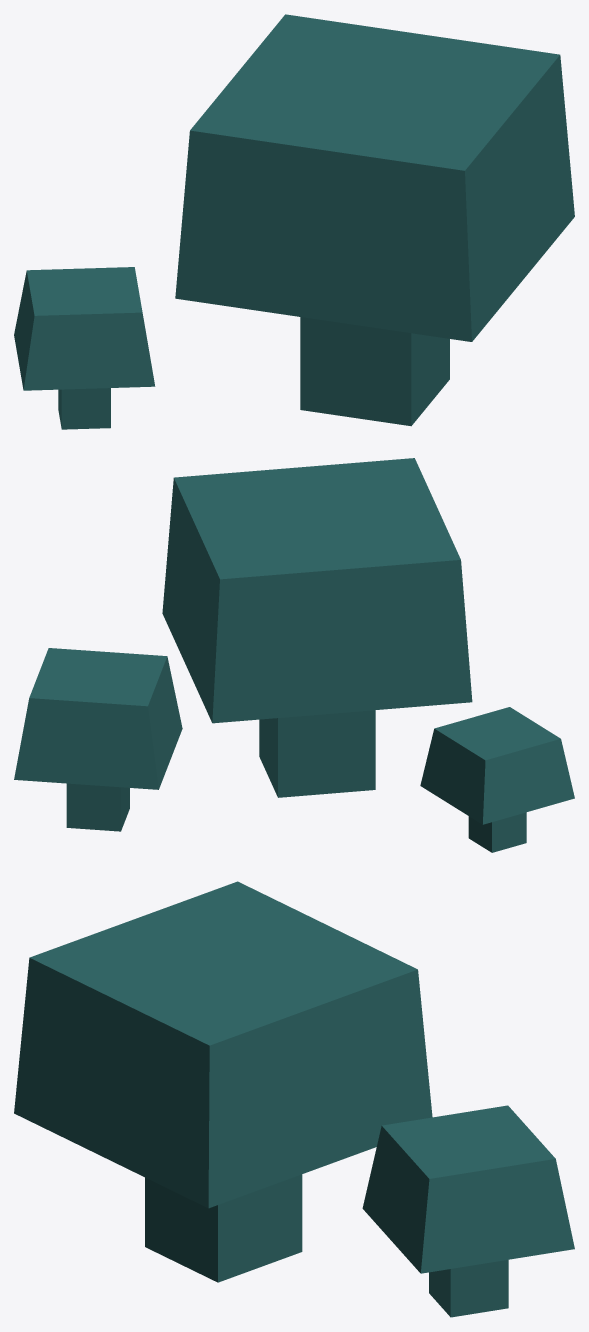
File: SM_Fungus.fbx
3 views of the same model, one above another, from view 1: azimuth 30°, elevation 25°; view 2: azimuth 150°, elevation 25°; view 3: azimuth 270°, elevation 25° (orthographic). The views are drawn at different scales.
Visible parts, largest first — view 1: Fungus; view 2: Fungus; view 3: Fungus.
Part boxes in pixels (left/top/right/bottom): Fungus: left=14, top=14, right=574, bottom=429; Fungus: left=14, top=458, right=574, bottom=852; Fungus: left=14, top=881, right=574, bottom=1317.
Size of the model in its own units: 98.03 by 50.86 by 90.44.
